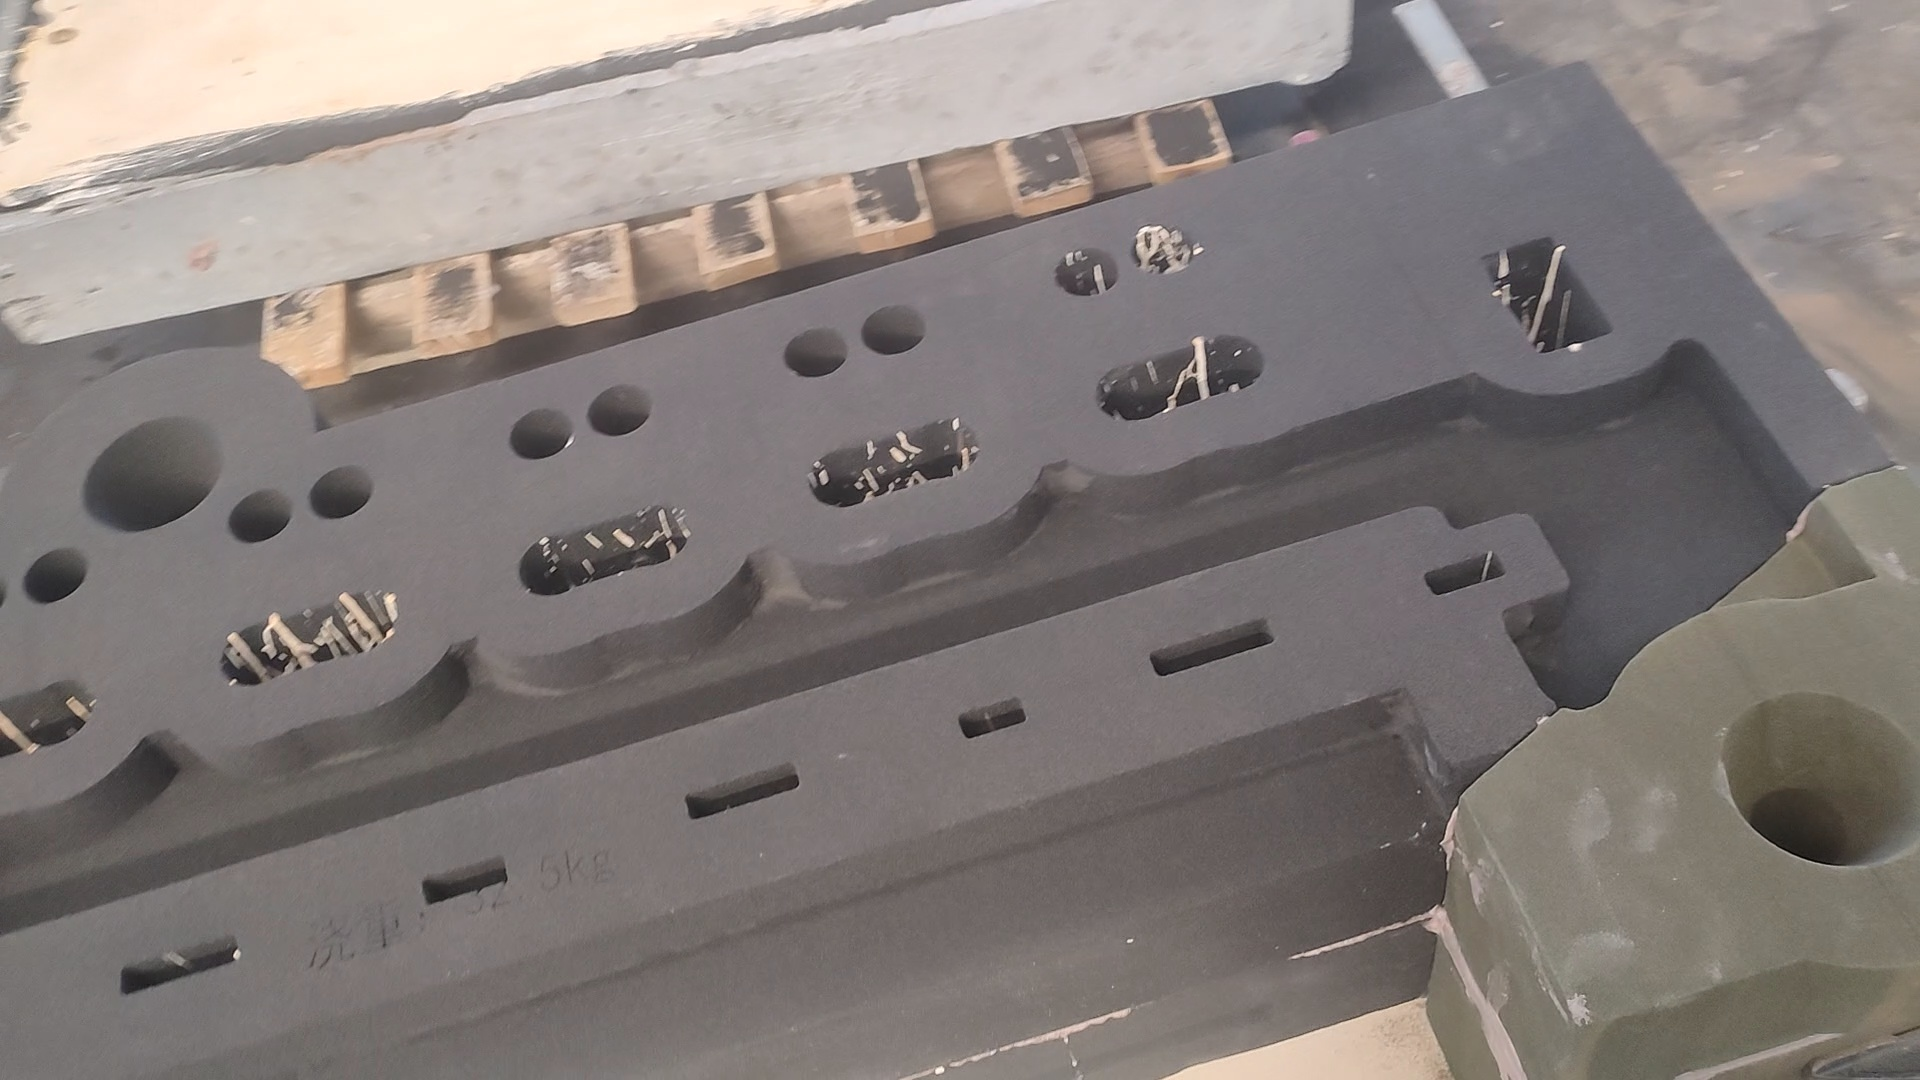pouring hole: (1720, 690, 1920, 868), (80, 414, 222, 531)
